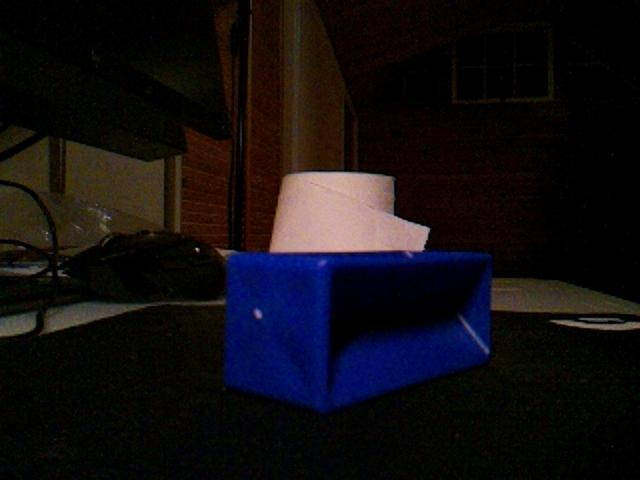blue: (222, 249, 494, 414)
